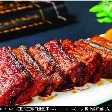hongshaodaiyu: (1, 35, 112, 106)
